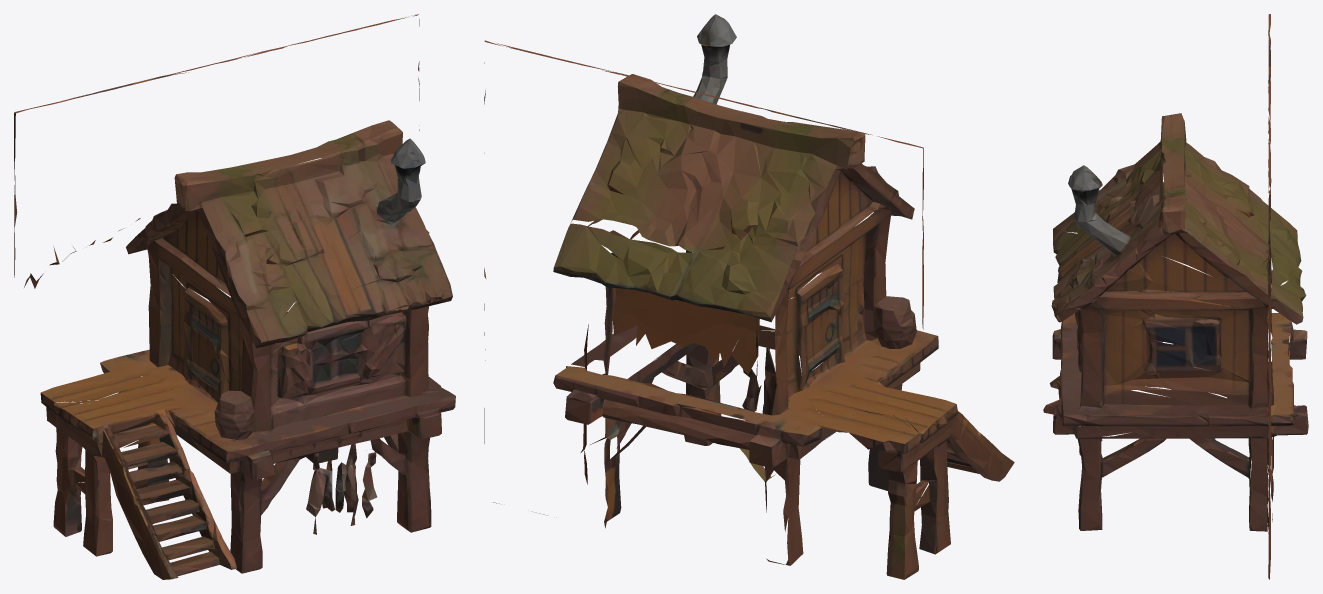
File: hut_b.glb
3 views of the same model, side by side, from view 1: azimuth 30°, elevation 25°; view 2: azimuth 150°, elevation 25°; view 3: azimuth 270°, elevation 25° (orthographic). The views are drawn at different scales.
Parts seen in each view (by area): view 1: geometry_0; view 2: geometry_0; view 3: geometry_0.
Boxes of the visible parts, bbox=[...] form: geometry_0: bbox=[14, 14, 455, 579]; geometry_0: bbox=[484, 14, 1014, 579]; geometry_0: bbox=[1043, 14, 1308, 579].
Size of the model in its own units: 2.6 by 2.6 by 1.62.
1 material, 1 textured.
